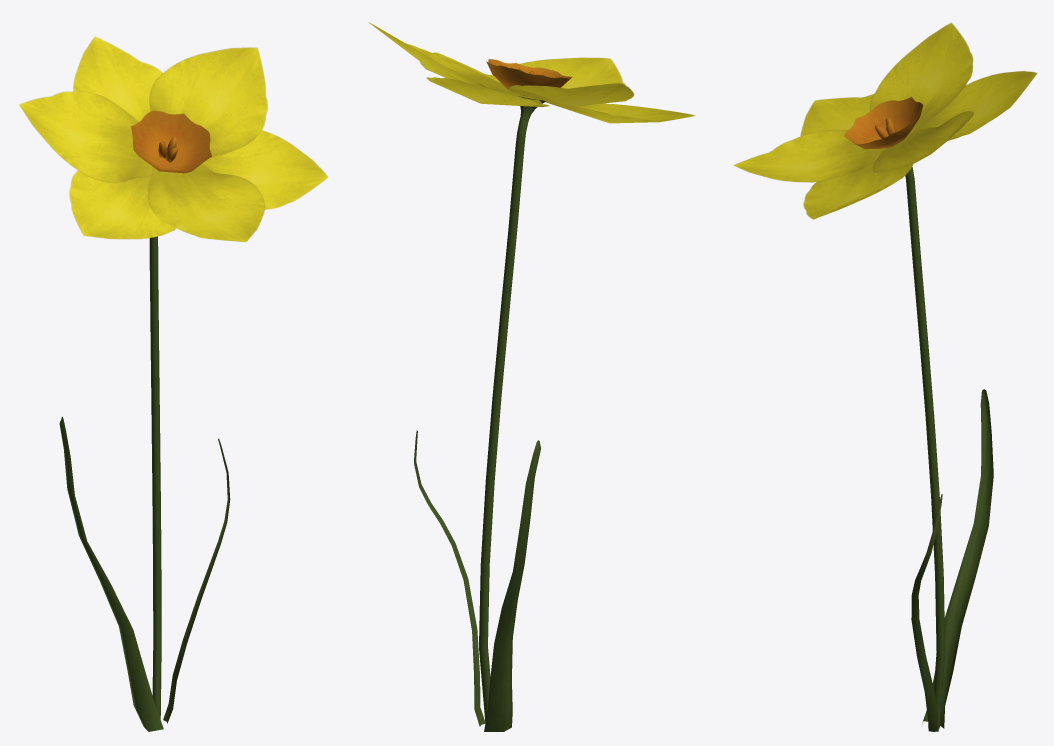
File: flor_amarela_3.glb
The picture shows the model from 3 angles, left to right: view 1: azimuth 30°, elevation 25°; view 2: azimuth 150°, elevation 25°; view 3: azimuth 270°, elevation 25°; orthographic projection. The views are drawn at different scales.
Parts seen in each view (by area): view 1: Cylinder.003; view 2: Cylinder.003; view 3: Cylinder.003.
Part boxes in pixels (x1,y1,x2,y2): Cylinder.003: (19, 36, 327, 731); Cylinder.003: (368, 22, 695, 731); Cylinder.003: (733, 22, 1037, 731).
Bounding box in the file's own units: 0.1661 × 0.3494 × 0.1478.
2 materials, 2 textured.
